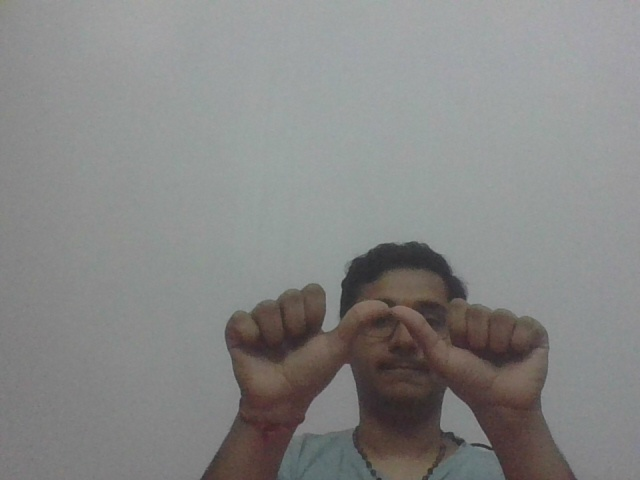A: (219, 278, 562, 404)
